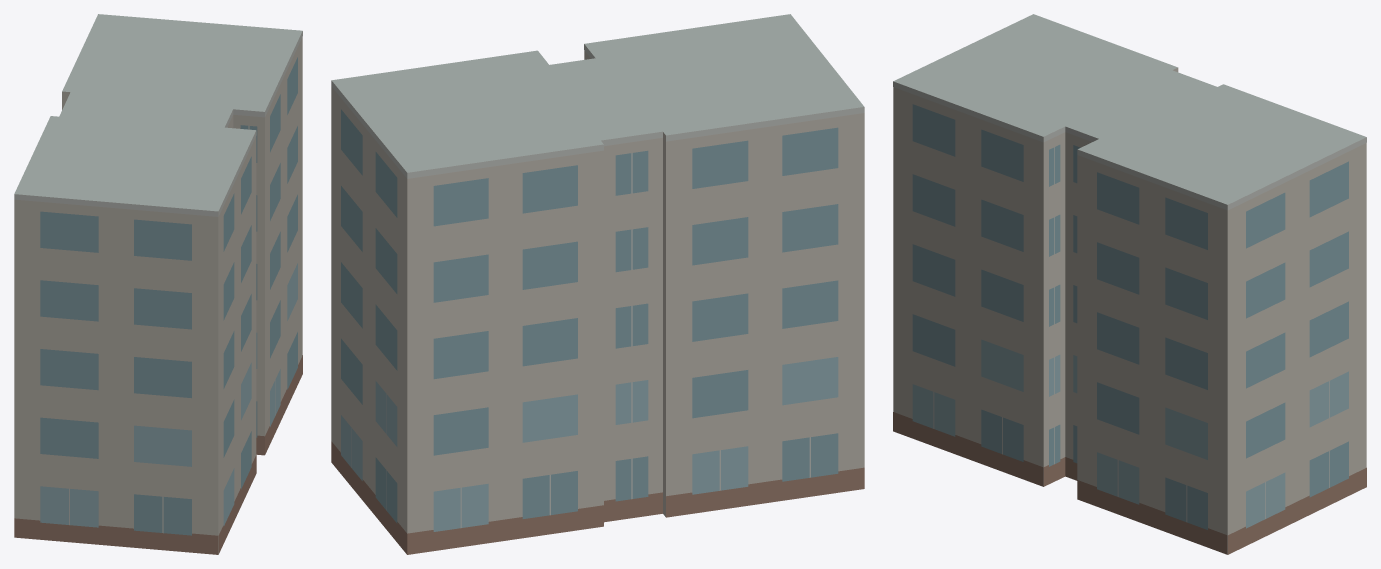
Rendered from survey-upis-32614303.glb.
3 renders of one model, left to right at view 1: azimuth 30°, elevation 25°; view 2: azimuth 150°, elevation 25°; view 3: azimuth 270°, elevation 25°, orthographic. The views are drawn at different scales.
Visible parts, largest first — view 1: survey-upis-32614303.tmp; view 2: survey-upis-32614303.tmp; view 3: survey-upis-32614303.tmp.
Part boxes in pixels (box(x1,y1,x2,y2)): survey-upis-32614303.tmp: box(14, 14, 302, 554); survey-upis-32614303.tmp: box(331, 14, 864, 554); survey-upis-32614303.tmp: box(893, 14, 1366, 554).
Size of the model in its own units: 17.85 by 15.25 by 18.71.
